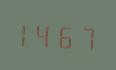four: (37, 18, 55, 49)
one: (18, 17, 36, 48)
seven: (75, 20, 93, 51)
six: (56, 19, 74, 50)
